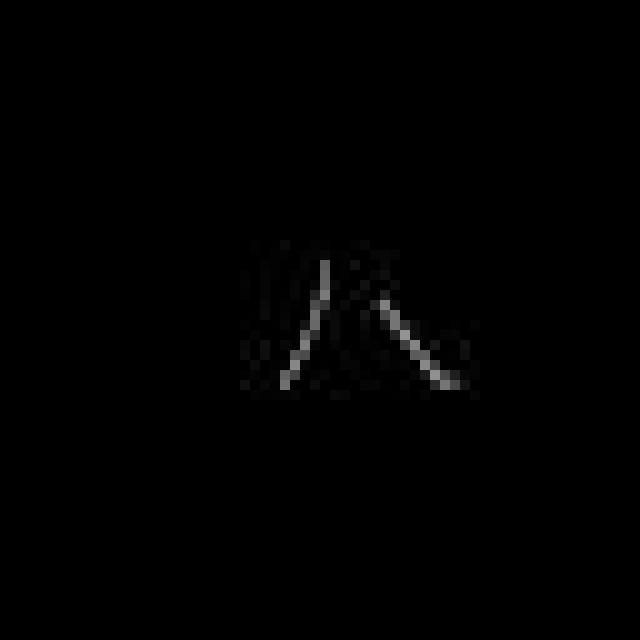8 -eight-: (259, 243, 471, 412)
